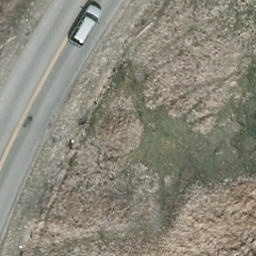car: (67, 4, 104, 51)
